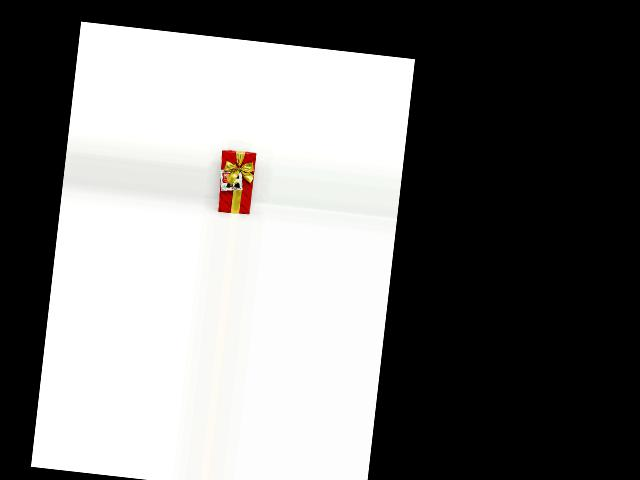chocolate: (215, 147, 259, 214)
